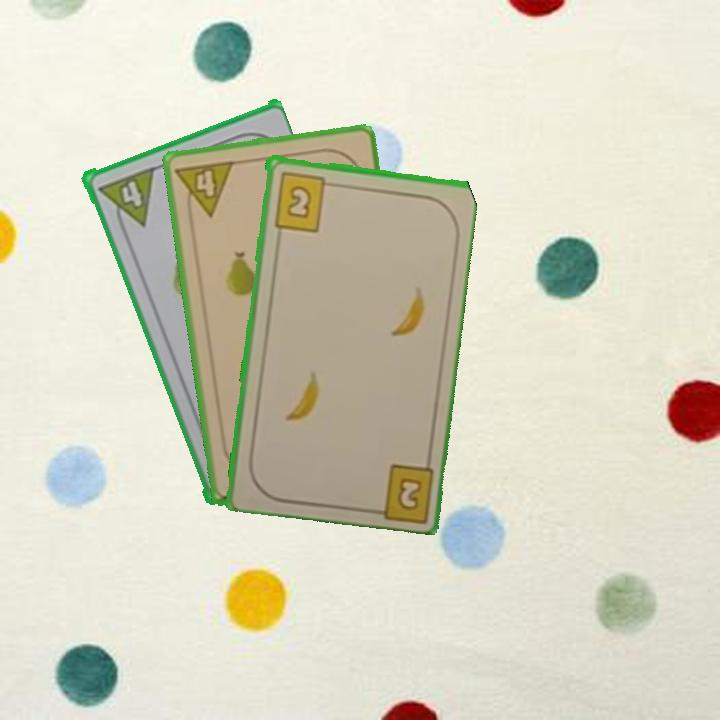2b: (270, 168, 337, 234), (393, 473, 425, 514)
4p: (93, 163, 157, 235), (172, 157, 237, 222)
